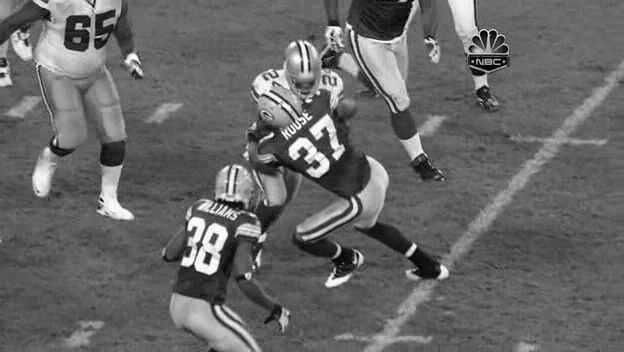person: (284, 46, 323, 95), (283, 46, 322, 95), (285, 46, 324, 95), (284, 45, 323, 94), (284, 47, 323, 96)
target_negative: (520, 32, 574, 133), (585, 156, 607, 234), (428, 254, 474, 280), (424, 308, 449, 328), (200, 343, 600, 344), (605, 317, 617, 329)
